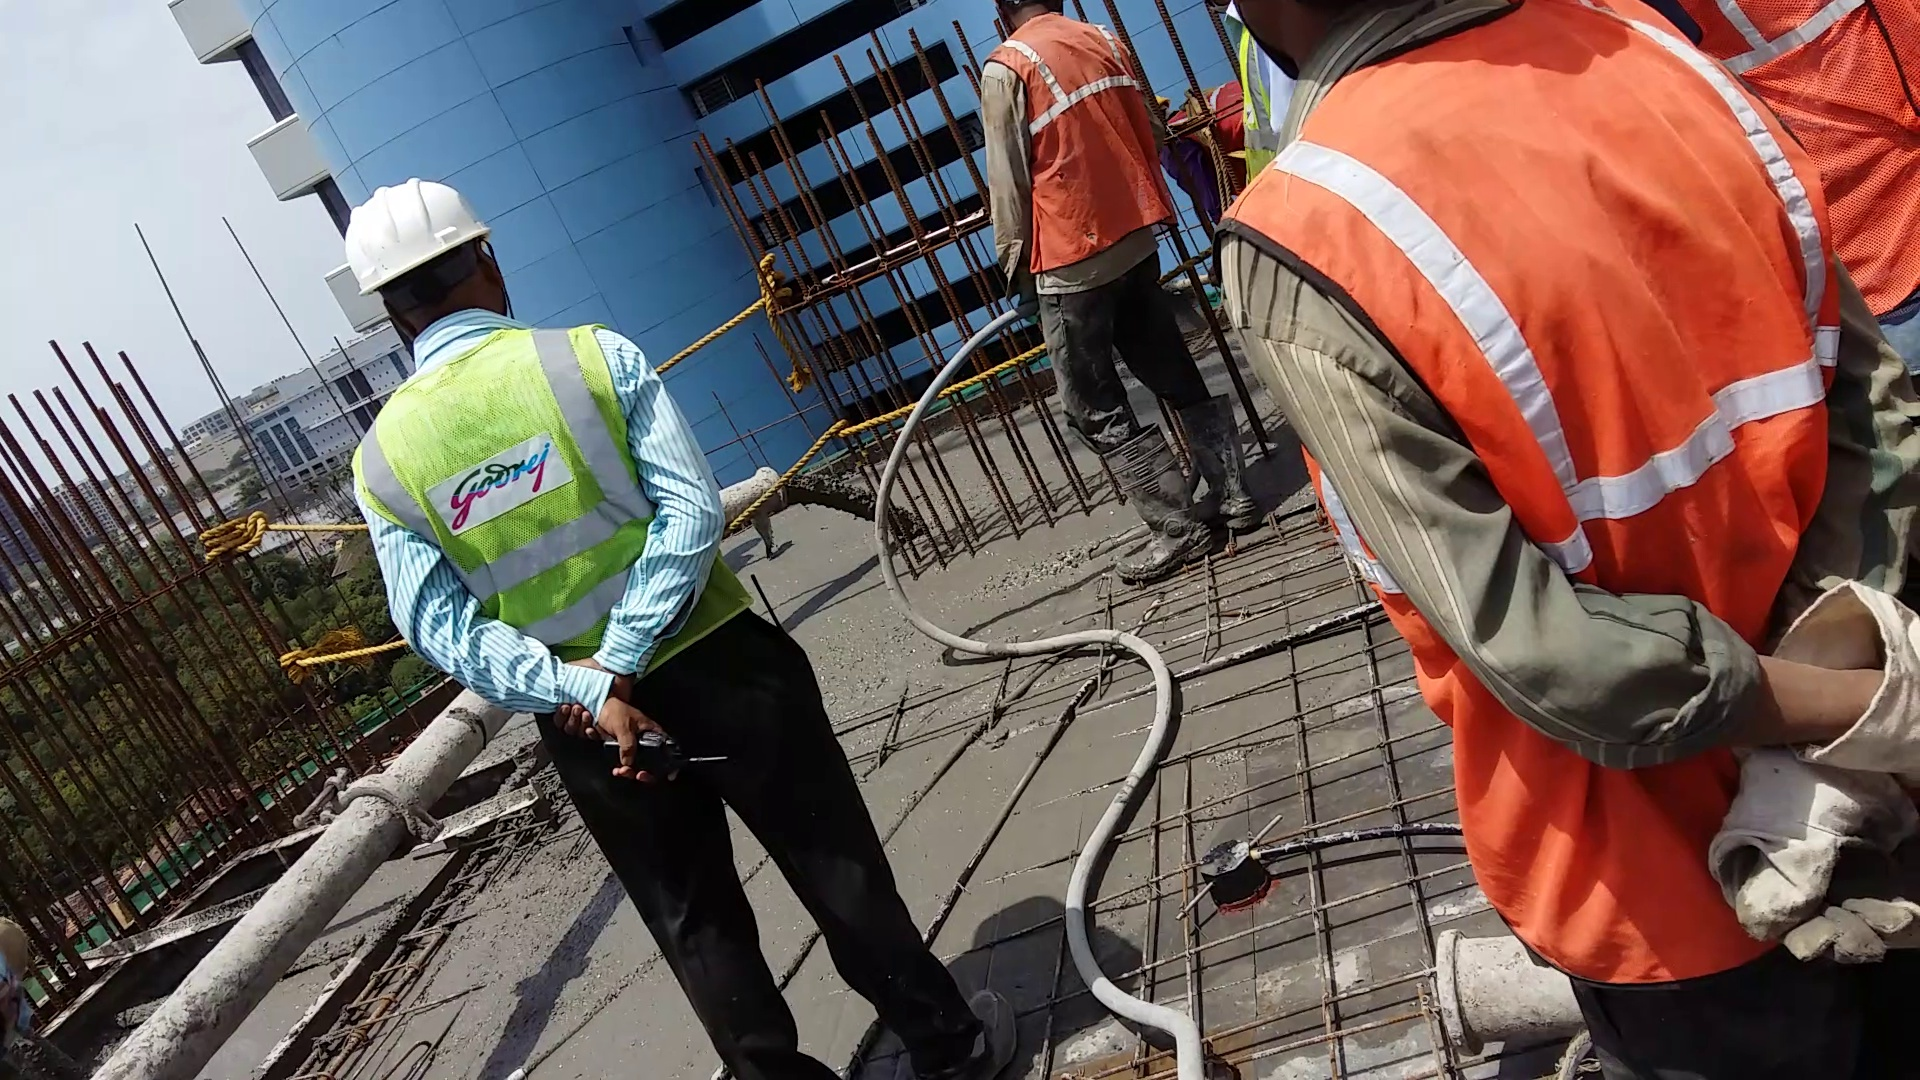SAFE: (339, 175, 723, 707)
